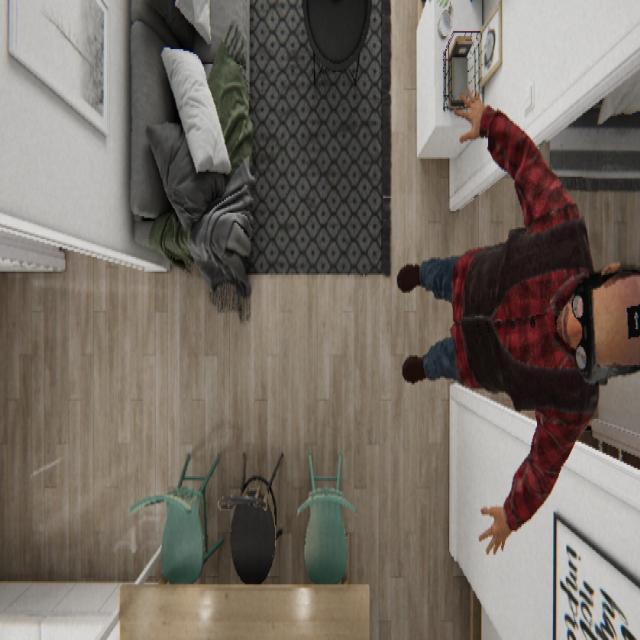Human: (396, 85, 638, 555)
